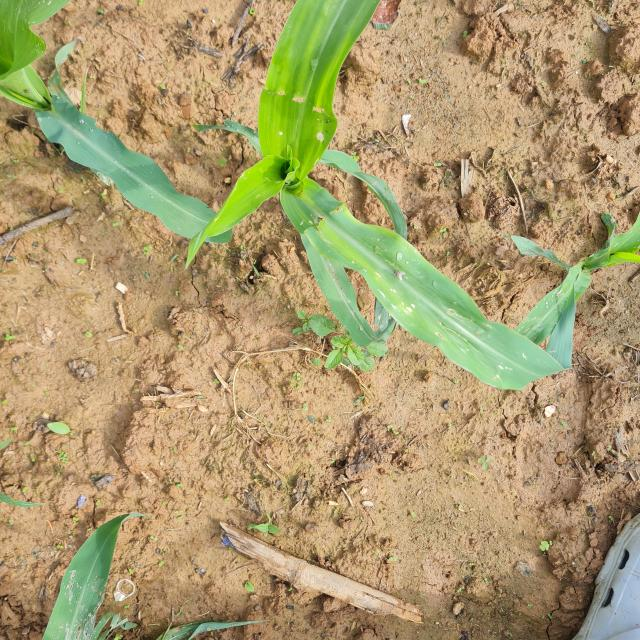maize: (84, 21, 640, 417), (0, 0, 131, 207), (59, 514, 208, 640)
